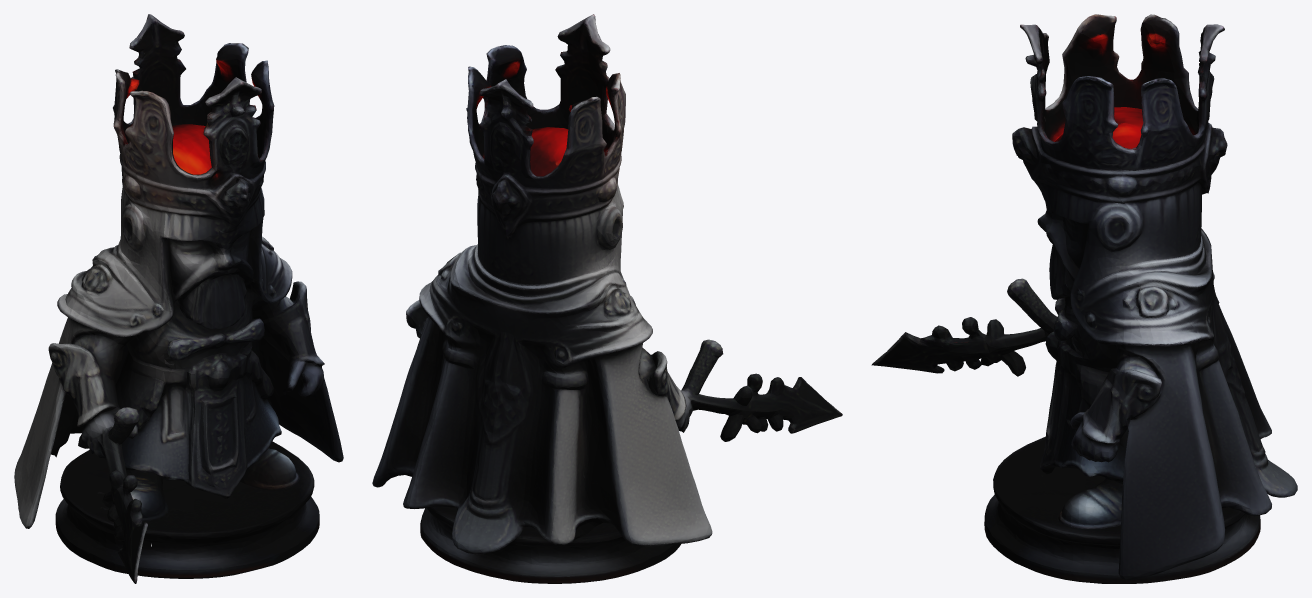
Rendered from king.glb.
3 renders of one model, left to right at view 1: azimuth 30°, elevation 25°; view 2: azimuth 150°, elevation 25°; view 3: azimuth 270°, elevation 25°, orthographic. The views are drawn at different scales.
Visible parts, largest first — view 1: world; view 2: world; view 3: world.
Part boxes in pixels (x1,y1,x2,y2): world: (14, 14, 343, 583); world: (372, 14, 842, 583); world: (871, 14, 1297, 583).
Bounding box in the file's own units: 0.7209 × 1 × 0.7661.
Materials: 1 (1 with a texture image).
